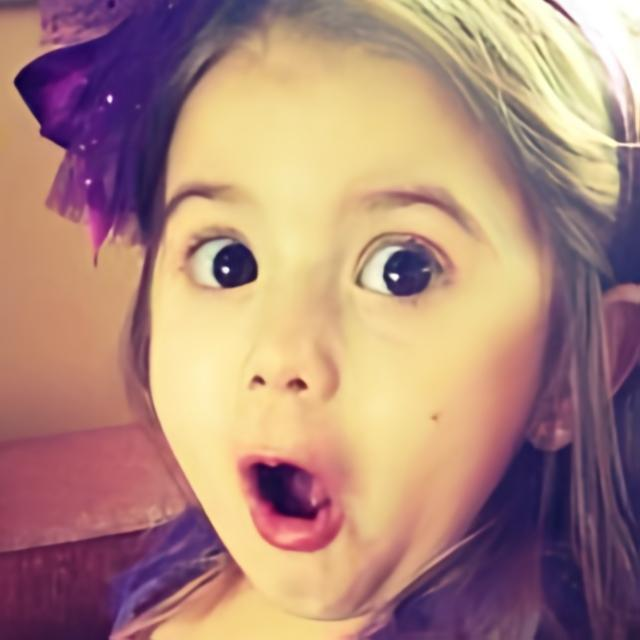surprise: (145, 7, 552, 622)
